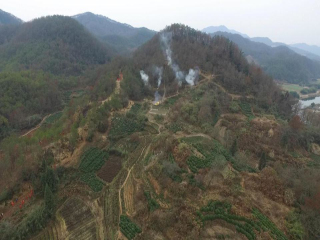smoke: (138, 30, 198, 101)
